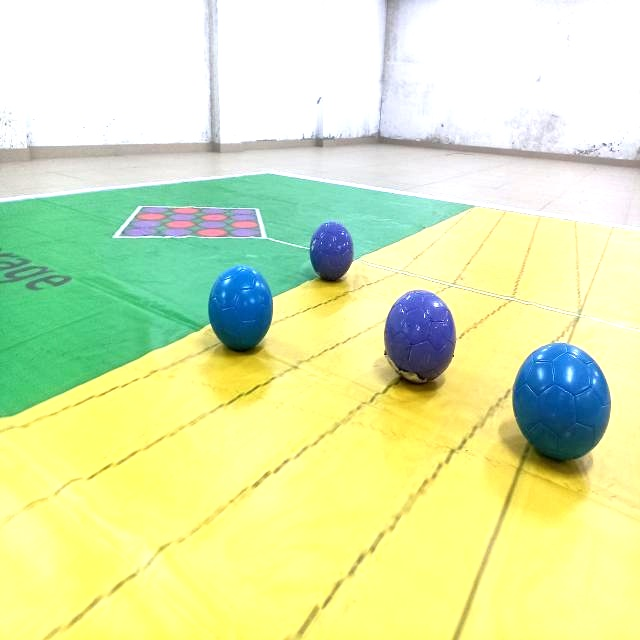blue_ball: (514, 345, 609, 460), (212, 270, 268, 350)
purple_ball: (386, 290, 456, 380), (311, 223, 354, 281)
